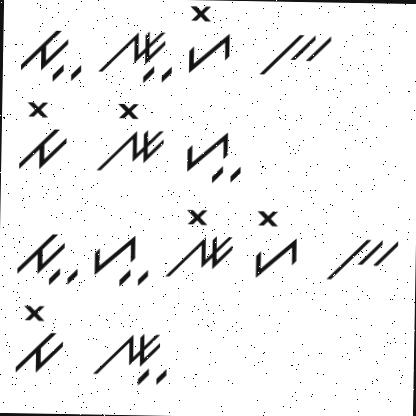hah: (180, 113, 248, 188), (88, 228, 160, 286)
ho: (247, 206, 302, 278), (183, 3, 236, 75)
mbah: (16, 24, 89, 87), (12, 226, 84, 289)
mbo: (11, 98, 72, 178), (12, 303, 70, 378)
ndah: (88, 318, 179, 393), (94, 25, 178, 84)
ndo: (90, 97, 168, 180), (164, 205, 236, 284)
